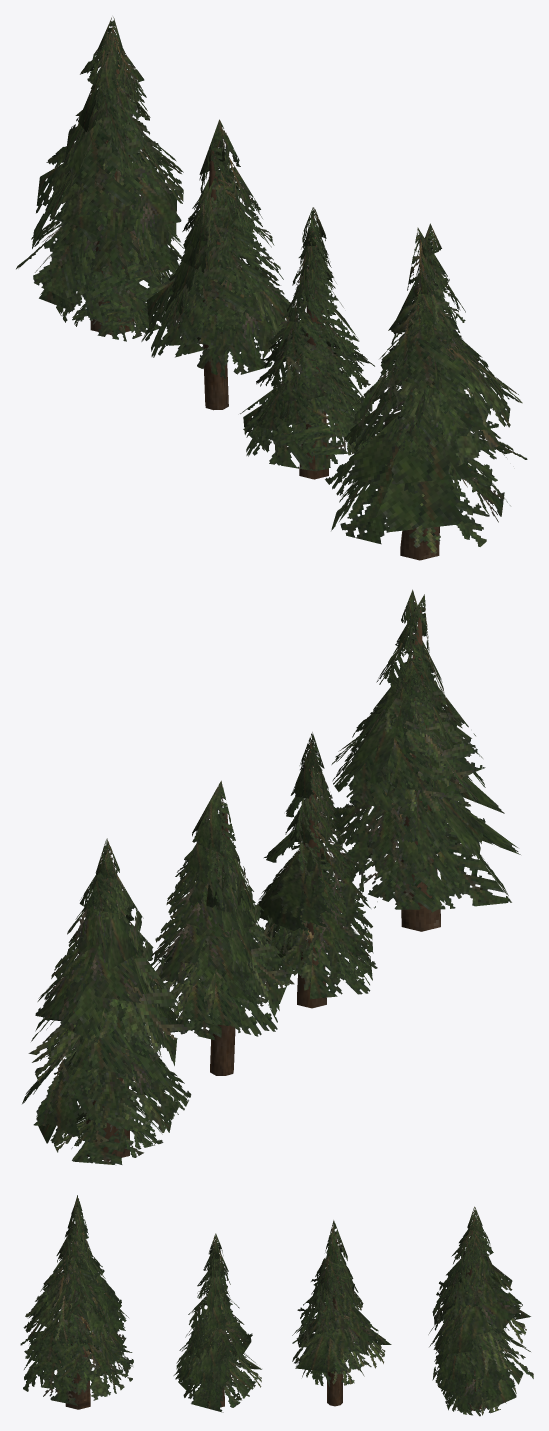
The model's file is tree.fbx.
The picture shows the model from 3 angles, top to bottom: view 1: azimuth 30°, elevation 25°; view 2: azimuth 150°, elevation 25°; view 3: azimuth 270°, elevation 25°; orthographic projection. The views are drawn at different scales.
Parts seen in each view (by area): view 1: tree_1, tree_4, tree_3, tree_2; view 2: tree_1, tree_4, tree_3, tree_2; view 3: tree_1, tree_4, tree_3, tree_2.
Part boxes in pixels (x1,y1,x2,y2): tree_1: (325, 223, 527, 560); tree_4: (16, 17, 184, 341); tree_3: (141, 119, 292, 410); tree_2: (240, 207, 375, 479); tree_1: (320, 589, 520, 931); tree_4: (22, 838, 195, 1164); tree_3: (150, 780, 297, 1075); tree_2: (254, 732, 377, 1008); tree_1: (20, 1195, 133, 1409); tree_4: (428, 1206, 533, 1416); tree_3: (292, 1220, 391, 1406); tree_2: (173, 1233, 261, 1412).
Size of the model in its own units: 633 by 1065 by 2402.
